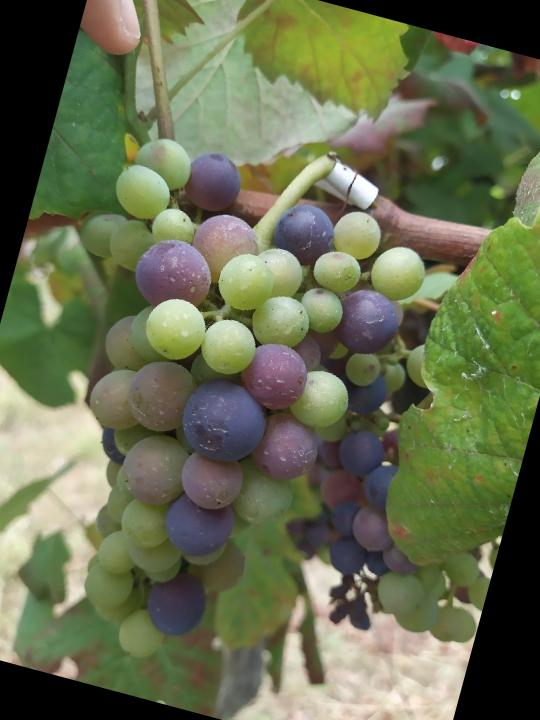grape: (0, 125, 449, 710)
